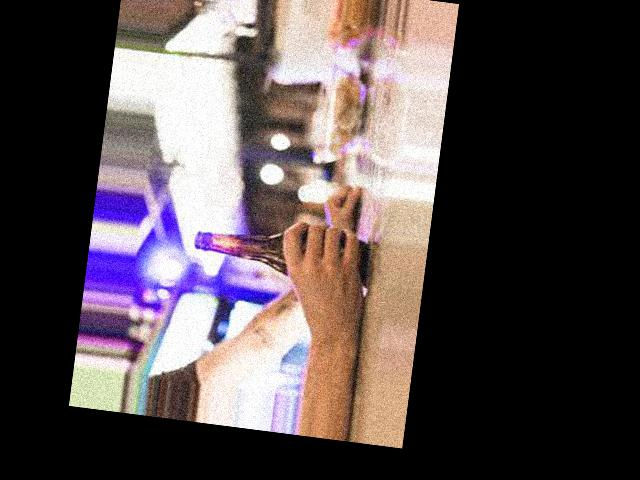beer: (191, 220, 369, 285)
